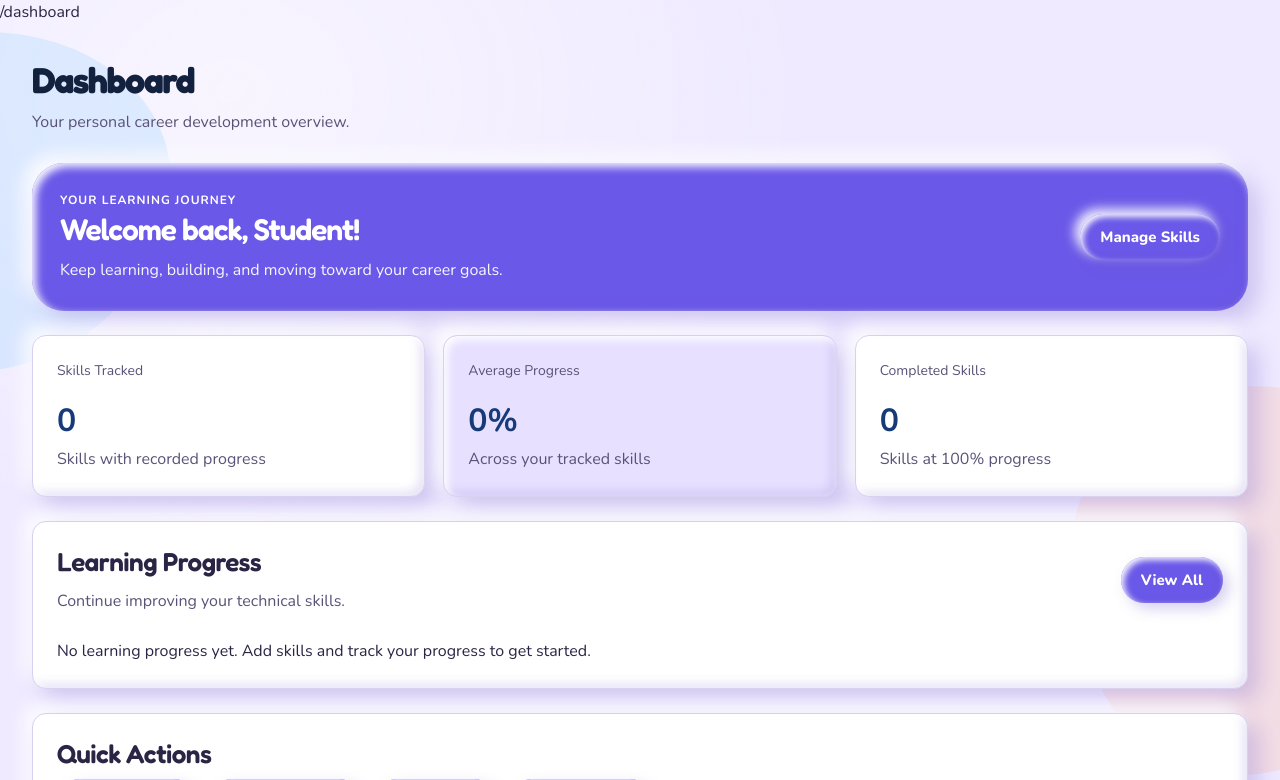
Test: Dashboard summary and navigation › navigates from dashboard actions to their corresponding pages
Expected: the heading "Dashboard" is shown, [32, 58, 194, 101]
Click the button "Manage Skills" in the row of "Student" at {"x": 1150, "y": 237}, box [1080, 214, 1220, 260]
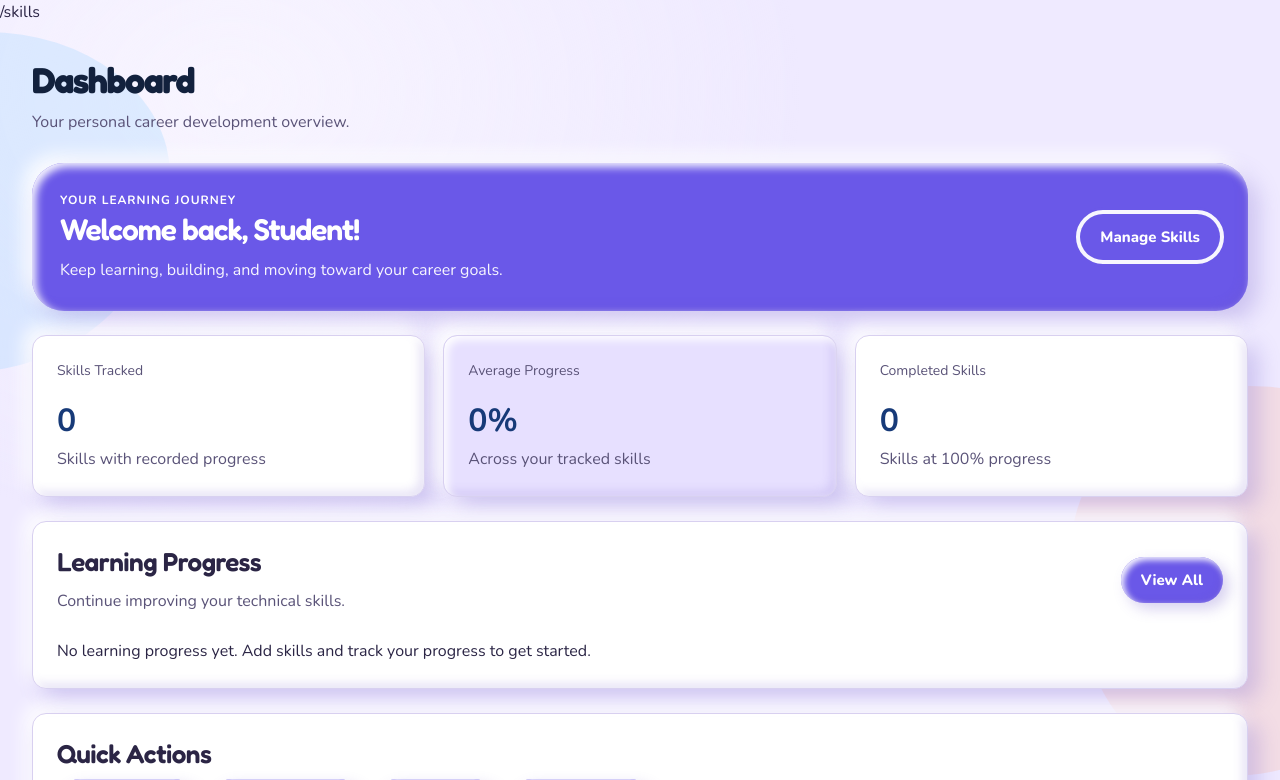
Result: the text with test id "location" reads "/skills" at [0, 1, 40, 23]
Click the button "View All" at {"x": 1172, "y": 580}, box [1121, 557, 1223, 603]
(page scrolled)
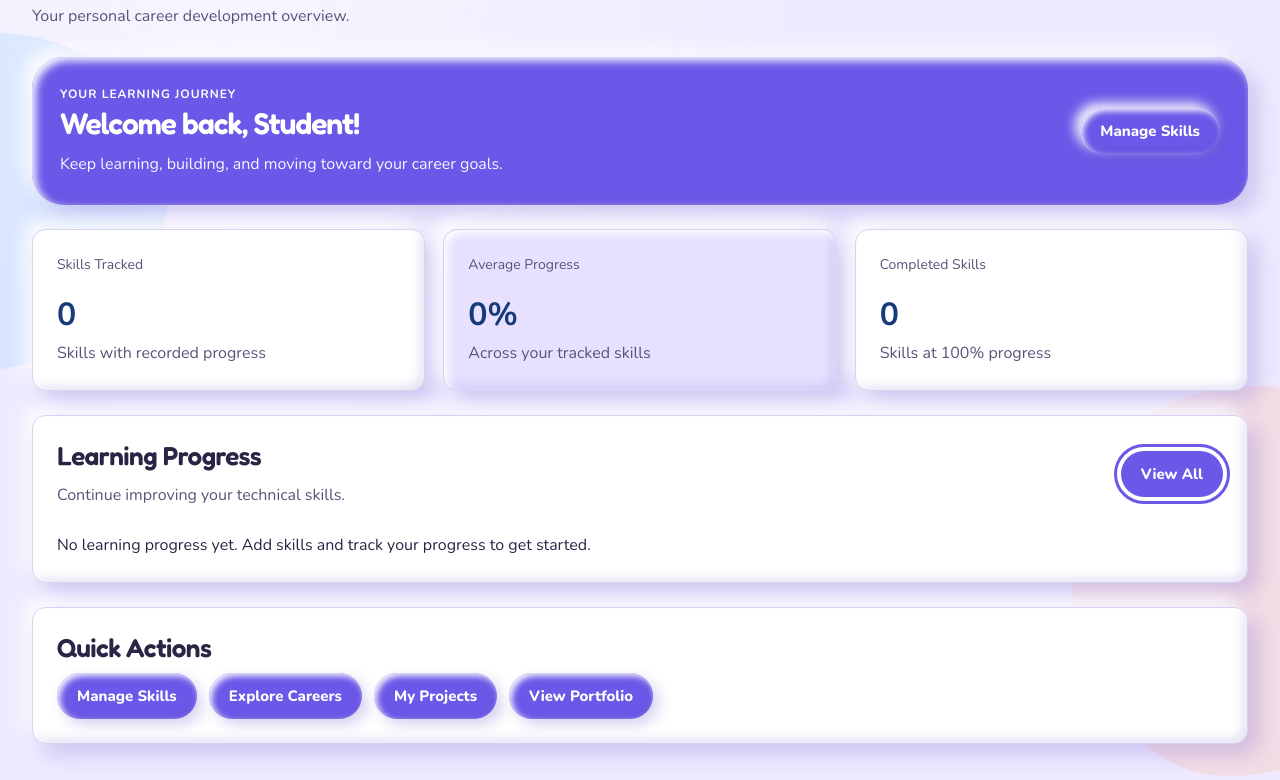
Click the button "Explore Careers" at {"x": 285, "y": 696}, box [209, 674, 362, 720]
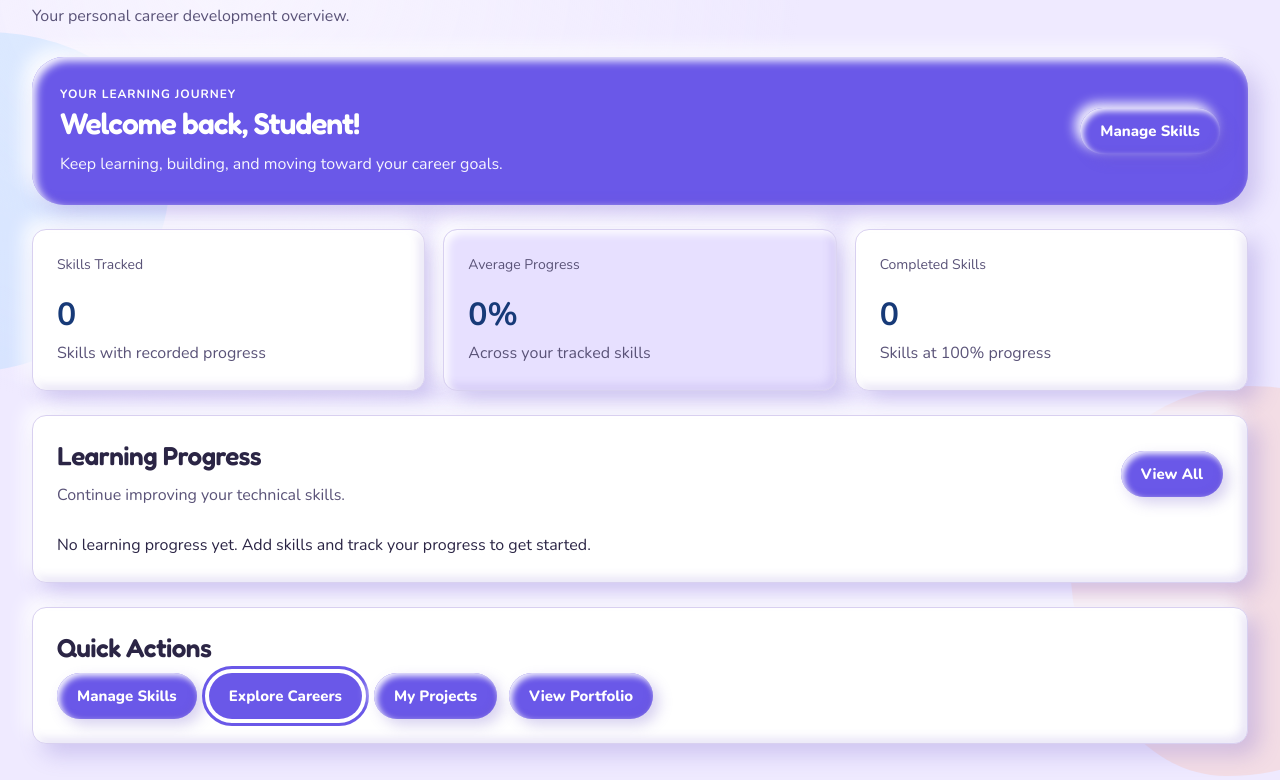
Click the button "My Projects" at {"x": 436, "y": 696}, box [374, 674, 497, 720]
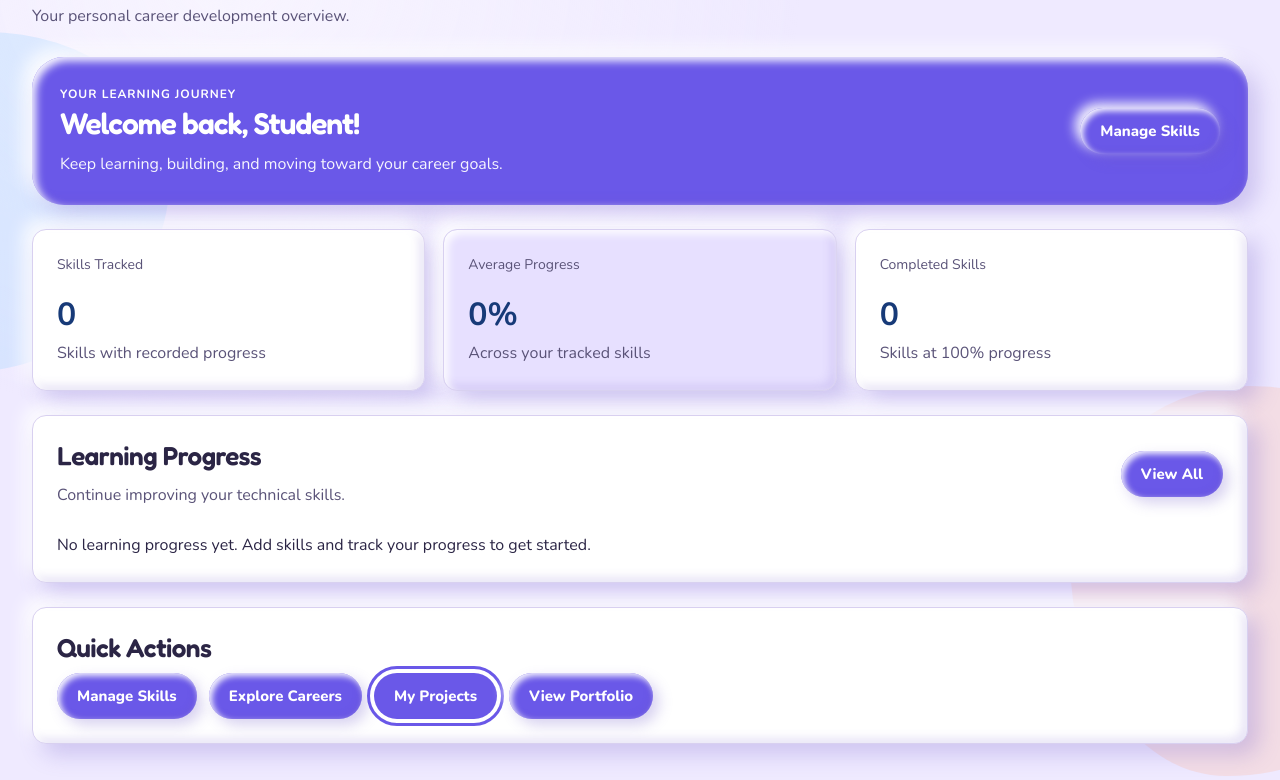
Click the button "View Portfolio" at {"x": 581, "y": 696}, box [509, 674, 653, 720]
(page scrolled)
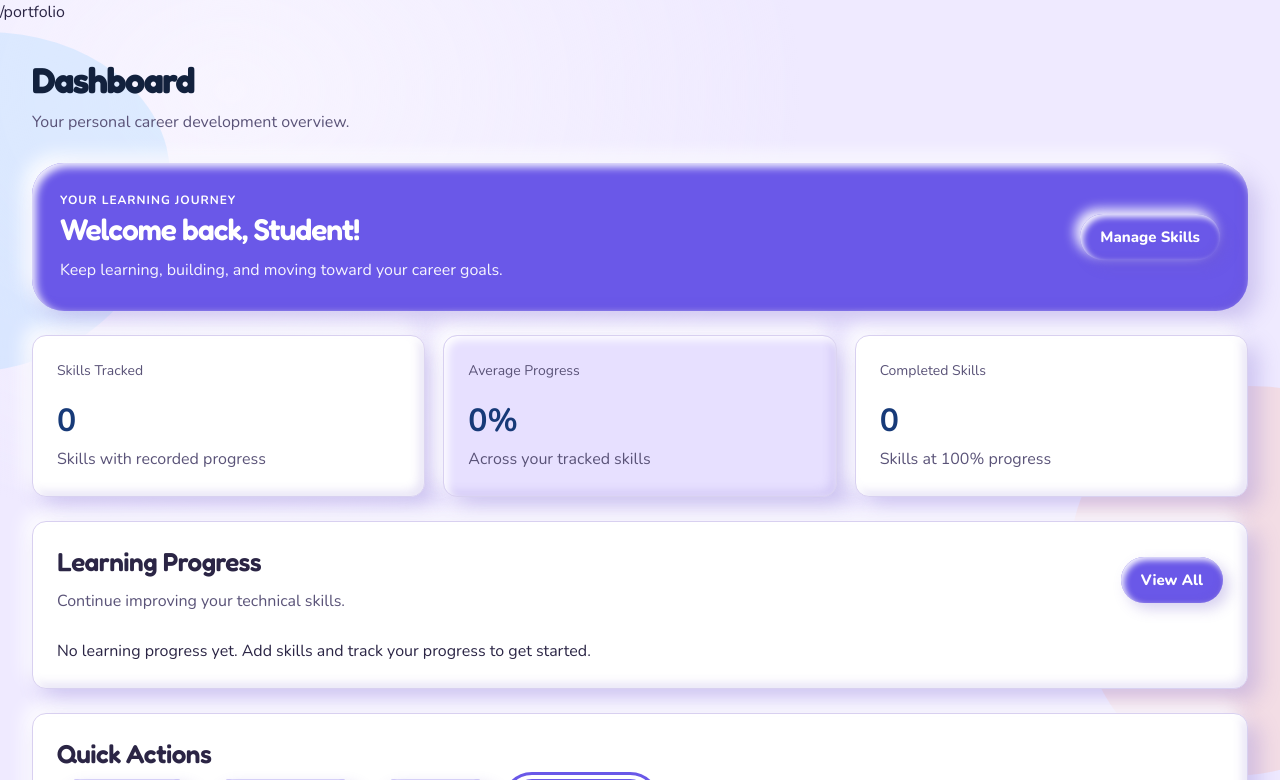
Result: the text with test id "location" reads "/portfolio" at [0, 1, 65, 23]
